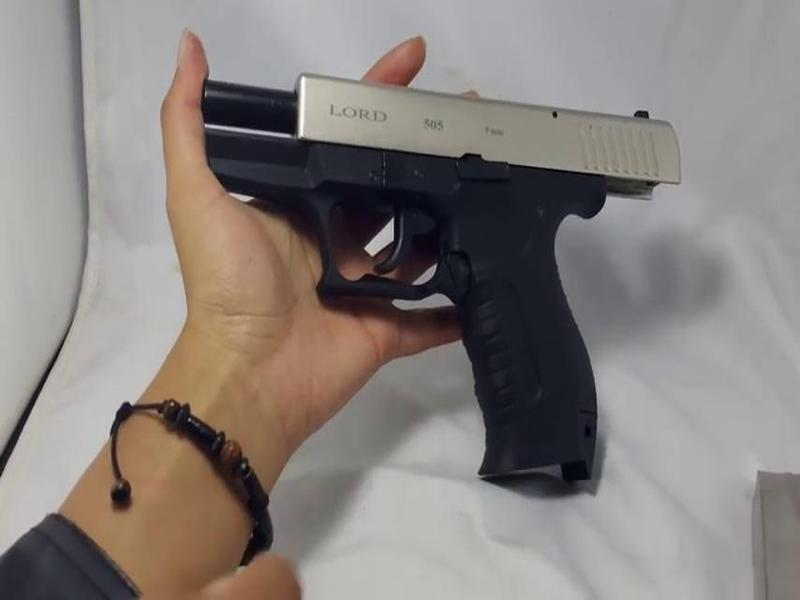Pistola: (151, 67, 712, 500)
